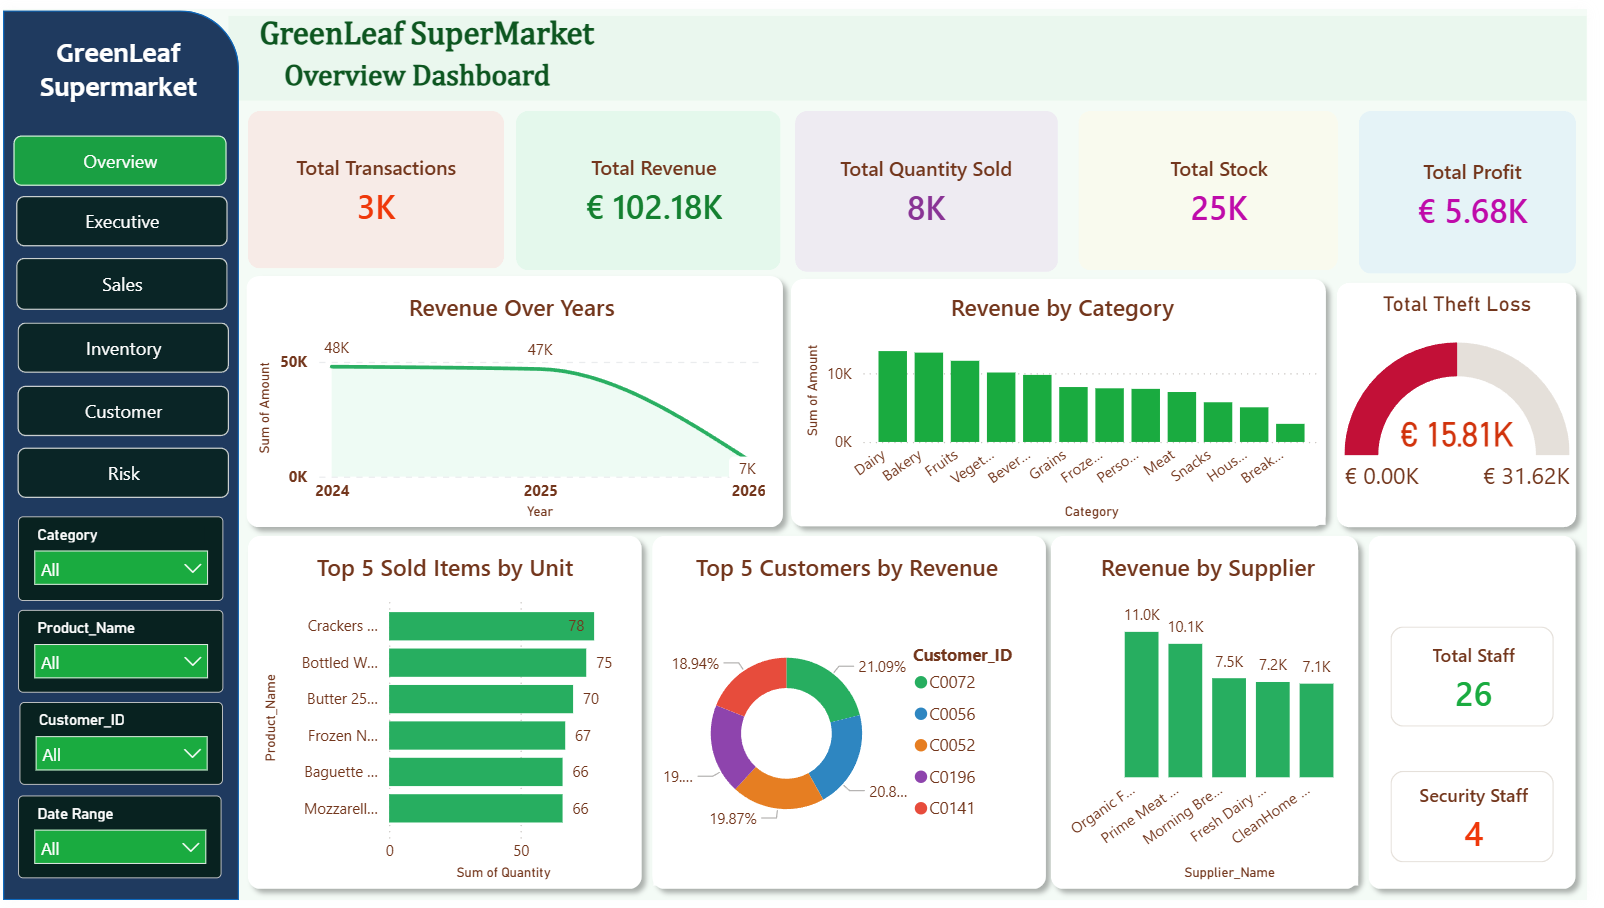

The page's visual inventory and layout, read from the dashboard file:
{"tool":"powerbi","page":{"name":"Overview","canvas":[1280,720],"ordinal":0},"visuals":[{"type":"shape","box":[182.5,5.5,1097.8,68.6],"z":0},{"type":"shape","box":[188,207.2,451.5,220.9],"z":0,"group":"g1"},{"type":"shape","box":[189.4,417.1,336.2,303.3],"z":0,"group":"g4"},{"type":"actionButton","box":[3.7,101.5,182.3,40.7],"z":1000,"group":"g3"},{"type":"shape","box":[628.5,209.9,450.1,218.2],"z":1000,"group":"g1"},{"type":"clusteredBarChart","title":"Top 5 Sold Items by Unit","fields":{"Category":["Products_dataset.Product_Name"],"Y":["Sum(Sales_dataset.Quantity)"]},"box":[205.9,437.7,303.3,270.3],"z":1000,"group":"g4"},{"type":"textbox","box":[1128,437.7,120.8,37],"z":1000},{"type":"actionButton","box":[5.1,150.5,180.9,40.7],"z":2000,"group":"g3"},{"type":"lineChart","title":"Revenue Over Years","fields":{"Category":["Sales_dataset.Date.Variation.Date Hierarchy.Year","Sales_dataset.Date.Variation.Date Hierarchy.Quarter","Sales_dataset.Date.Variation.Date Hierarchy.Month","Sales_dataset.Date.Variation.Date Hierarchy.Day"],"Y":["Sum(Sales_dataset.Amount)"]},"box":[201.7,227.8,419.9,189.4],"z":2000,"group":"g1"},{"type":"shape","box":[516,417.1,336.2,303.3],"z":2000,"group":"g4"},{"type":"shape","box":[1128,458.3,120.8,16.5],"z":2000},{"type":"textbox","box":[201.7,0,343.1,50.8],"z":3000,"group":"g2"},{"type":"actionButton","box":[5.1,201,180.9,42.1],"z":3000,"group":"g3"},{"type":"group","id":"g1","title":"Group 2","box":[188,207.2,1092.3,513.2],"z":3000},{"type":"lineClusteredColumnComboChart","title":"Revenue by Category","fields":{"Category":["Products_dataset.Category"],"Y":["Sum(Sales_dataset.Amount)"]},"box":[643.6,227.8,425.4,189.4],"z":3000,"group":"g1"},{"type":"donutChart","title":"Top 5 Customers by Revenue","fields":{"Category":["Customers_dataset.Customer_ID"],"Y":["Sum(Sales_dataset.Amount)"]},"box":[525.6,437.7,312.9,270.3],"z":3000,"group":"g4"},{"type":"group","id":"g2","title":"Group 5","box":[197.6,0,1073.1,214.1],"z":4000},{"type":"textbox","box":[222.3,35.7,247,46.7],"z":4000,"group":"g2"},{"type":"shape","box":[1069,212.7,211.3,215.4],"z":4000,"group":"g1"},{"type":"actionButton","box":[6.5,252.9,180.9,40.7],"z":4000,"group":"g3"},{"type":"shape","box":[838.5,417.1,266.2,303.3],"z":4000,"group":"g4"},{"type":"shape","box":[0,1.4,190.7,719],"z":5000},{"type":"shape","box":[197.6,82.3,207.2,127.6],"z":5000,"group":"g5"},{"type":"gauge","fields":{"Y":["Theftlog_dataset.Total Theft Loss"]},"box":[1078.6,227.8,192.1,189.4],"z":5000,"group":"g1"},{"type":"actionButton","box":[6.5,303.4,180.9,40.7],"z":5000,"group":"g3"},{"type":"columnChart","title":"Revenue by Supplier","fields":{"Category":["Suppliers_dataset.Supplier_Name"],"Y":["Sum(Sales_dataset.Amount)"]},"box":[852.2,437.7,242.9,270.3],"z":5000,"group":"g4"},{"type":"group","id":"g3","title":"Group 4","box":[0,20.6,187.4,680.9],"z":6000},{"type":"cardVisual","fields":{"Data":["Sales_dataset.Total Transactions"]},"box":[205.8,89.2,192.1,115.3],"z":6000,"group":"g5"},{"type":"actionButton","box":[6.5,353.9,180.9,40.7],"z":6000,"group":"g3"},{"type":"group","id":"g4","title":"Group 1","box":[189.4,417.1,1090.9,303.3],"z":6000,"group":"g1"},{"type":"shape","box":[1095.1,417.1,185.2,303.3],"z":6000,"group":"g4"},{"type":"shape","box":[414.4,82.3,214.1,129],"z":7000,"group":"g5"},{"type":"slicer","fields":{"Values":["Products_dataset.Category"]},"box":[12.3,409.5,166,68.6],"z":7000,"group":"g3"},{"type":"cardVisual","fields":{"Data":["Customers_dataset.Total Staff"]},"box":[1104.7,483,166,115.3],"z":7000,"group":"g4"},{"type":"shape","box":[639.5,82.3,212.7,130.4],"z":8000,"group":"g5"},{"type":"slicer","fields":{"Values":["Products_dataset.Product_Name"]},"box":[12.3,485,166,67.2],"z":8000,"group":"g3"},{"type":"cardVisual","fields":{"Data":["Staff_dataset.Security Staff Count"]},"box":[1104.7,599.6,166,108.4],"z":8000,"group":"g4"},{"type":"shape","box":[868.6,82.3,209.9,129],"z":9000,"group":"g5"},{"type":"slicer","fields":{"Values":["Customers_dataset.Customer_ID"]},"box":[13.7,559.6,164.7,67.2],"z":9000,"group":"g3"},{"type":"textbox","title":"GreenLeaf Supermarket","box":[0,20.6,186.6,64.5],"z":10000,"group":"g3"},{"type":"shape","box":[1095,82.3,175.6,131.7],"z":10000,"group":"g5"},{"type":"cardVisual","fields":{"Data":["Sales_dataset.Total Revenue"]},"box":[429.5,89.2,192.1,115.3],"z":11000,"group":"g5"},{"type":"slicer","fields":{"Values":["Sales_dataset.Date"]},"box":[12.1,634.8,164.5,66.8],"z":11000,"group":"g3"},{"type":"cardVisual","fields":{"Data":["Sales_dataset.Total Quantity Sold"]},"box":[639.5,90.5,212.7,115.3],"z":12000,"group":"g5"},{"type":"cardVisual","fields":{"Data":["Inventory_dataset.Total Stock"]},"box":[886.5,90.5,192.1,115.3],"z":13000,"group":"g5"},{"type":"cardVisual","fields":{"Data":["Products_dataset.Total Profit"]},"box":[1104.6,91.9,166,115.3],"z":14000,"group":"g5"},{"type":"group","id":"g5","title":"Group 3","box":[197.6,82.3,1073.1,131.7],"z":14020,"group":"g2"}]}

Visuals, with their boxes in screenshot pixels (x1, y1, x2, y2), scaled from the page's 1280x720 canvas onto the 1604x908 screenshot:
shape: 229:7:1603:93
shape: 236:261:801:540
shape: 237:526:659:907
actionButton: 5:128:233:179
shape: 788:265:1352:540
"Top 5 Sold Items by Unit" clusteredBarChart: 258:552:638:893
textbox: 1414:552:1565:599
actionButton: 6:190:233:241
"Revenue Over Years" lineChart: 253:287:779:526
shape: 647:526:1068:907
shape: 1414:578:1565:599
textbox: 253:0:683:64
actionButton: 6:253:233:307
"Group 2" group: 236:261:1603:907
"Revenue by Category" lineClusteredColumnComboChart: 807:287:1340:526
"Top 5 Customers by Revenue" donutChart: 659:552:1051:893
"Group 5" group: 248:0:1592:270
textbox: 279:45:588:104
shape: 1340:268:1603:540
actionButton: 8:319:235:370
shape: 1051:526:1384:907
shape: 0:2:239:907
shape: 248:104:507:265
gauge - Theftlog_dataset.Total Theft Loss: 1352:287:1592:526
actionButton: 8:383:235:434
"Revenue by Supplier" columnChart: 1068:552:1372:893
"Group 4" group: 0:26:235:885
cardVisual - Sales_dataset.Total Transactions: 258:112:499:258
actionButton: 8:446:235:498
"Group 1" group: 237:526:1603:907
shape: 1372:526:1603:907
shape: 519:104:788:266
slicer - Products_dataset.Category: 15:516:223:603
cardVisual - Customers_dataset.Total Staff: 1384:609:1592:755
shape: 801:104:1068:268
slicer - Products_dataset.Product_Name: 15:612:223:696
cardVisual - Staff_dataset.Security Staff Count: 1384:756:1592:893
shape: 1088:104:1351:266
slicer - Customers_dataset.Customer_ID: 17:706:224:790
"GreenLeaf Supermarket" textbox: 0:26:234:107
shape: 1372:104:1592:270
cardVisual - Sales_dataset.Total Revenue: 538:112:779:258
slicer - Sales_dataset.Date: 15:801:221:885
cardVisual - Sales_dataset.Total Quantity Sold: 801:114:1068:260
cardVisual - Inventory_dataset.Total Stock: 1111:114:1352:260
cardVisual - Products_dataset.Total Profit: 1384:116:1592:261
"Group 3" group: 248:104:1592:270
